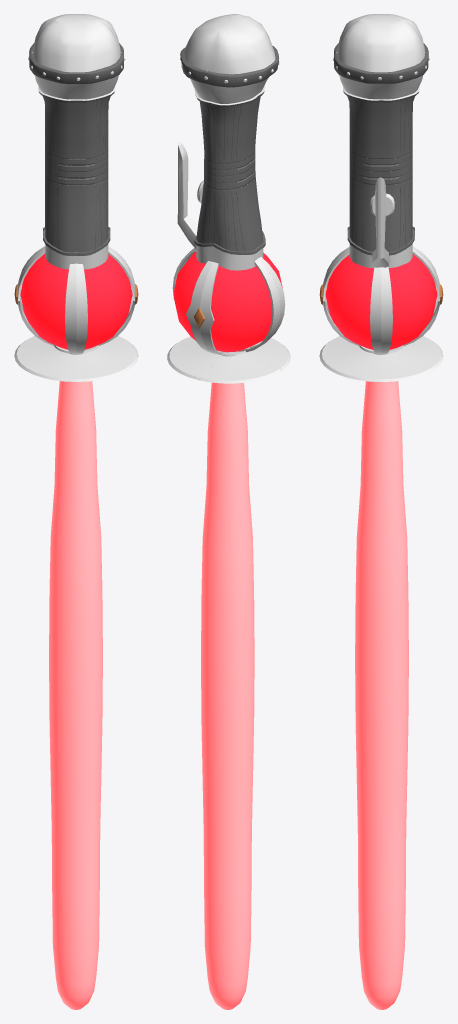
The model's file is red_light_sword.glb.
The picture shows the model from 3 angles, left to right: view 1: azimuth 90°, elevation 25°; view 2: azimuth 150°, elevation 25°; view 3: azimuth 270°, elevation 25°; orthographic projection.
Visible parts, largest first — view 1: Plane.001, Circle; view 2: Plane.001, Circle; view 3: Plane.001, Circle.
Boxes of the visible parts, <box> form: Plane.001: <box>14,14,138,381</box>; Circle: <box>49,381,102,1009</box>; Plane.001: <box>167,14,290,383</box>; Circle: <box>201,382,254,1009</box>; Plane.001: <box>319,14,443,381</box>; Circle: <box>355,381,408,1009</box>.
Bounding box in the file's own units: 0.844 × 7.4 × 0.844.
Materials: 8 (1 with a texture image).
